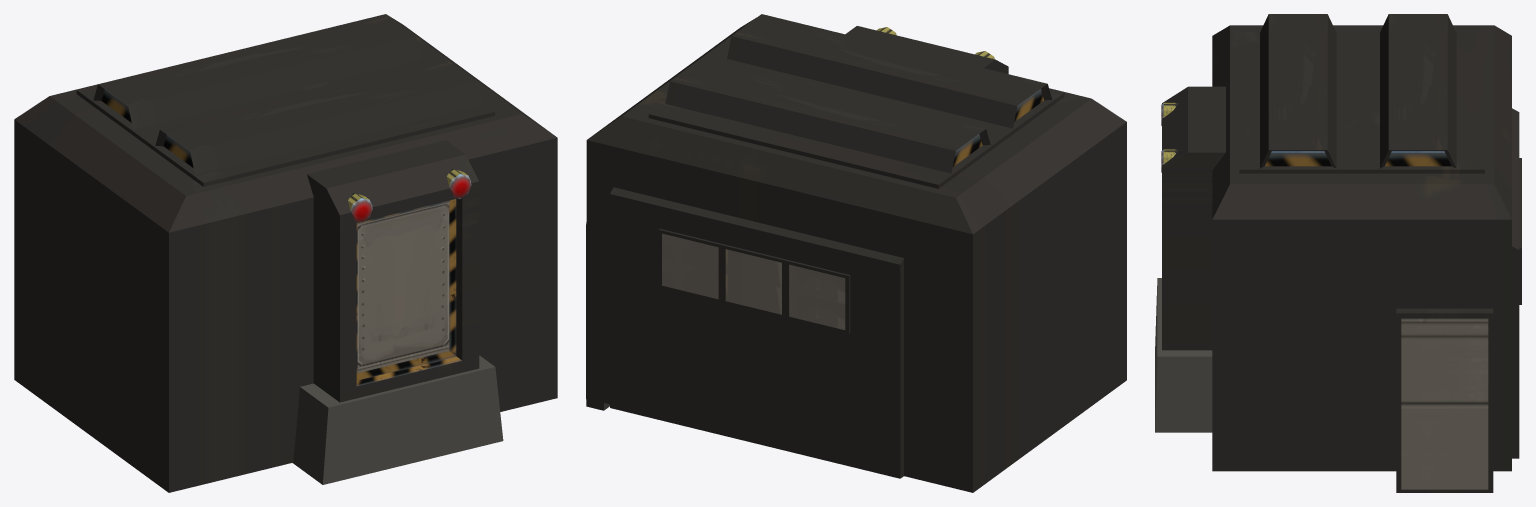
File: house_2.dae
3 views of the same model, side by side, from view 1: azimuth 30°, elevation 25°; view 2: azimuth 150°, elevation 25°; view 3: azimuth 270°, elevation 25° (orthographic). The views are drawn at different scales.
Parts seen in each view (by area): view 1: house_2; view 2: house_2; view 3: house_2.
Boxes of the visible parts, x1,y1,x2,y2 form: house_2: (14, 14, 557, 492); house_2: (586, 14, 1126, 492); house_2: (1155, 14, 1521, 492).
Size of the model in its own units: 13.56 by 11.07 by 10.48.
